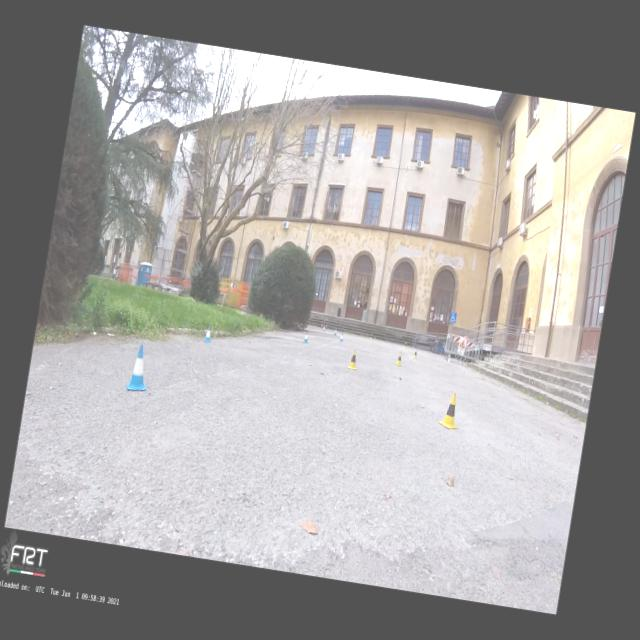blue_cone: (125, 343, 153, 394), (203, 326, 214, 344), (302, 332, 310, 343), (339, 332, 344, 342), (333, 328, 338, 336), (322, 326, 326, 332)
unknown_cone: (321, 324, 324, 328), (326, 324, 328, 329)
yellow_cone: (438, 392, 463, 431), (347, 350, 360, 370), (394, 352, 404, 368), (412, 350, 418, 360), (403, 341, 408, 350), (370, 333, 372, 339)
